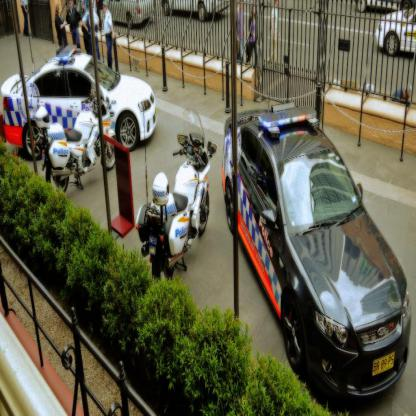Car: (238, 113, 409, 409), (0, 38, 158, 160), (376, 7, 416, 58), (102, 0, 154, 31), (160, 0, 231, 22), (354, 0, 406, 15)
